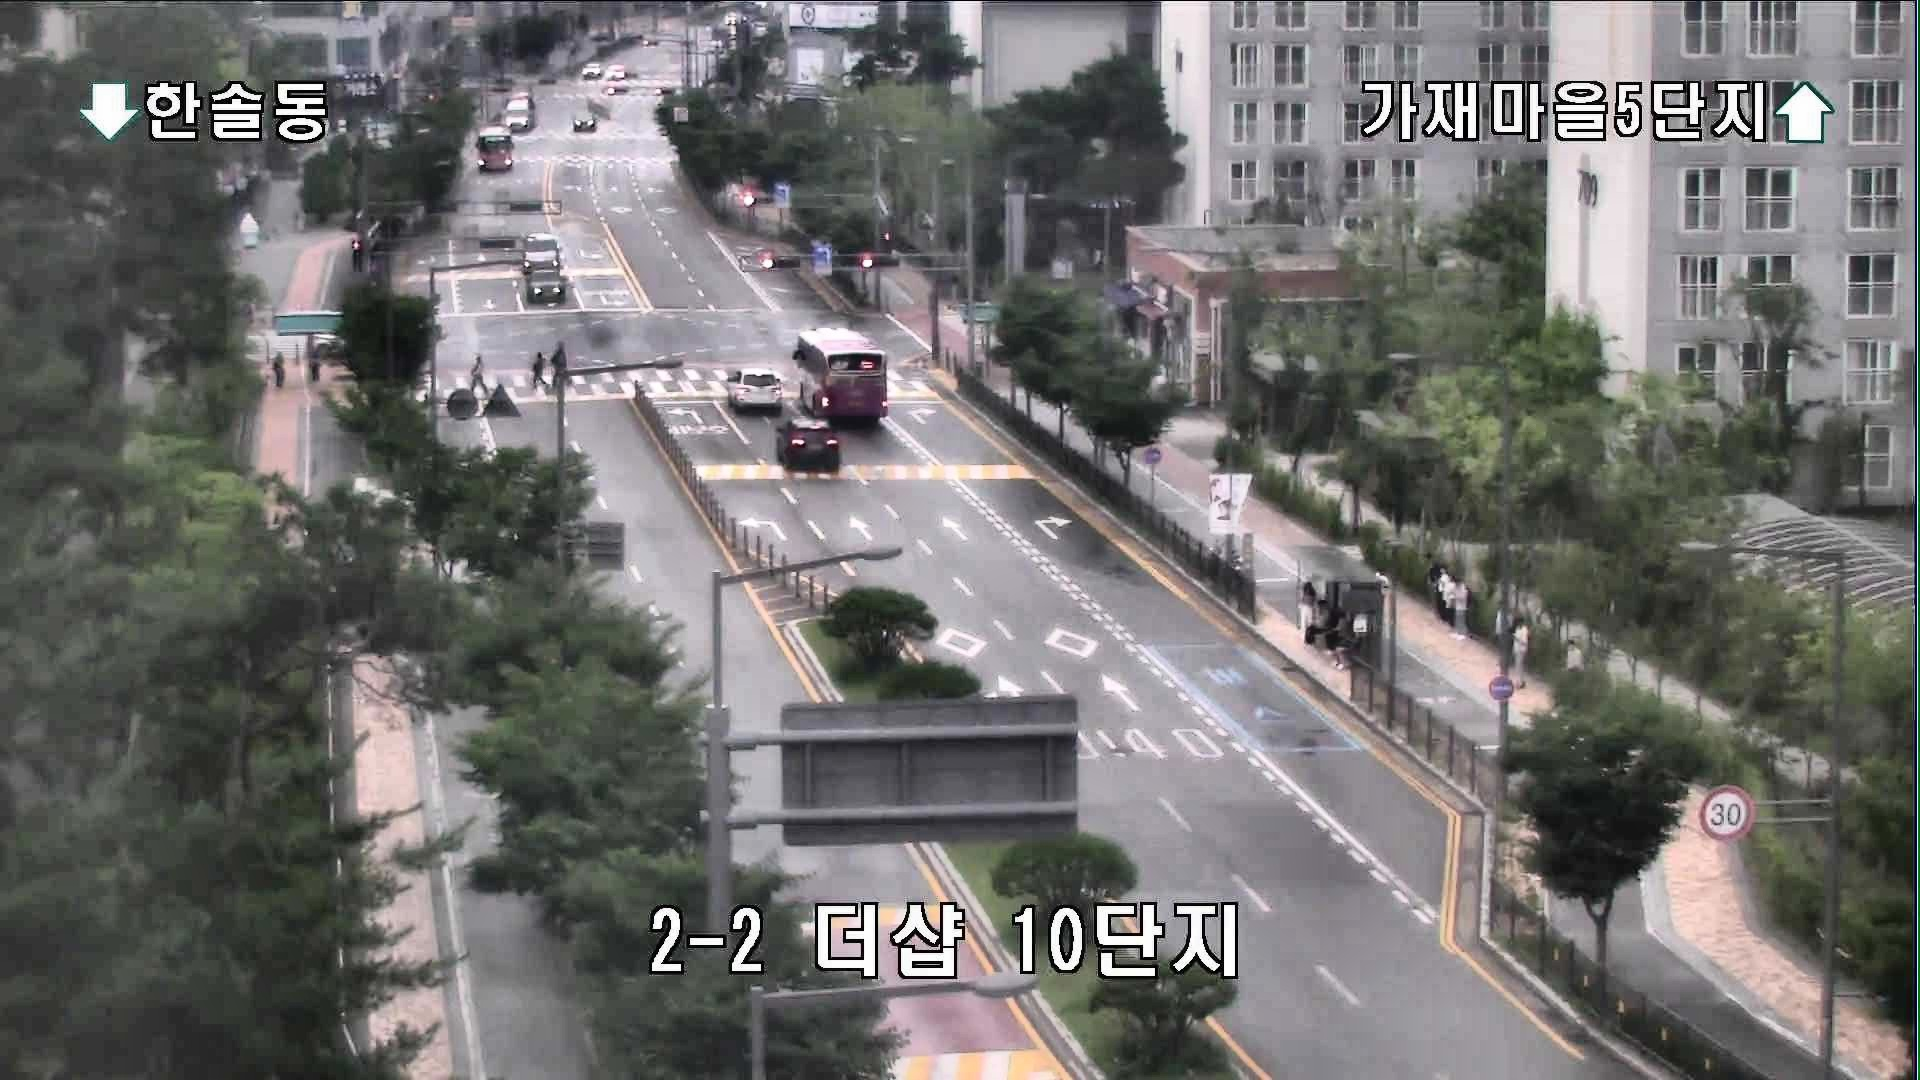crosswalk: (468, 352, 489, 394), (526, 349, 547, 392), (550, 344, 571, 382)
sidewalk: (1563, 638, 1588, 707), (1448, 574, 1472, 644), (1311, 596, 1338, 655), (1510, 616, 1528, 691), (1425, 553, 1443, 618), (1436, 563, 1453, 628), (1299, 582, 1317, 641), (270, 349, 287, 392)
